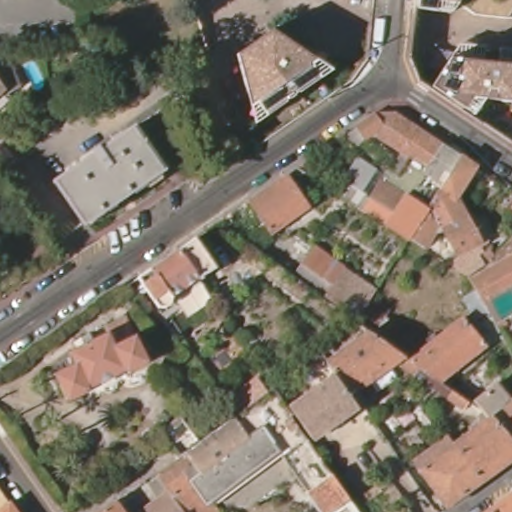pool: (21, 59, 48, 91)
